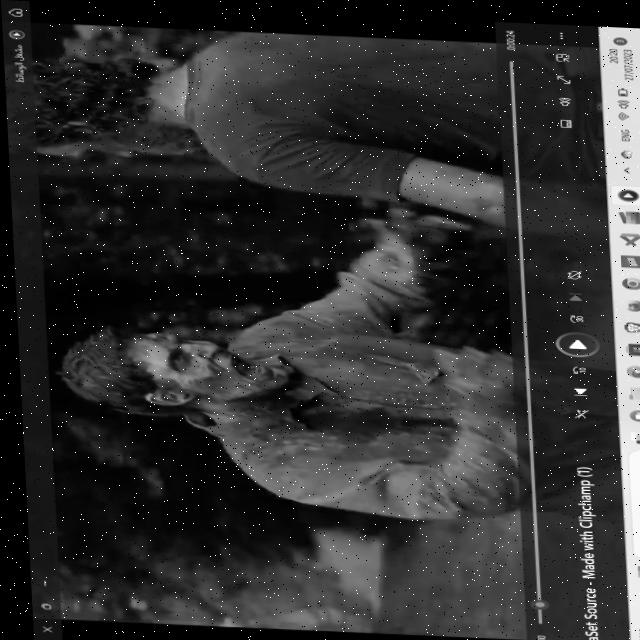Zombie: (59, 330, 285, 412)
human: (6, 61, 188, 165)
